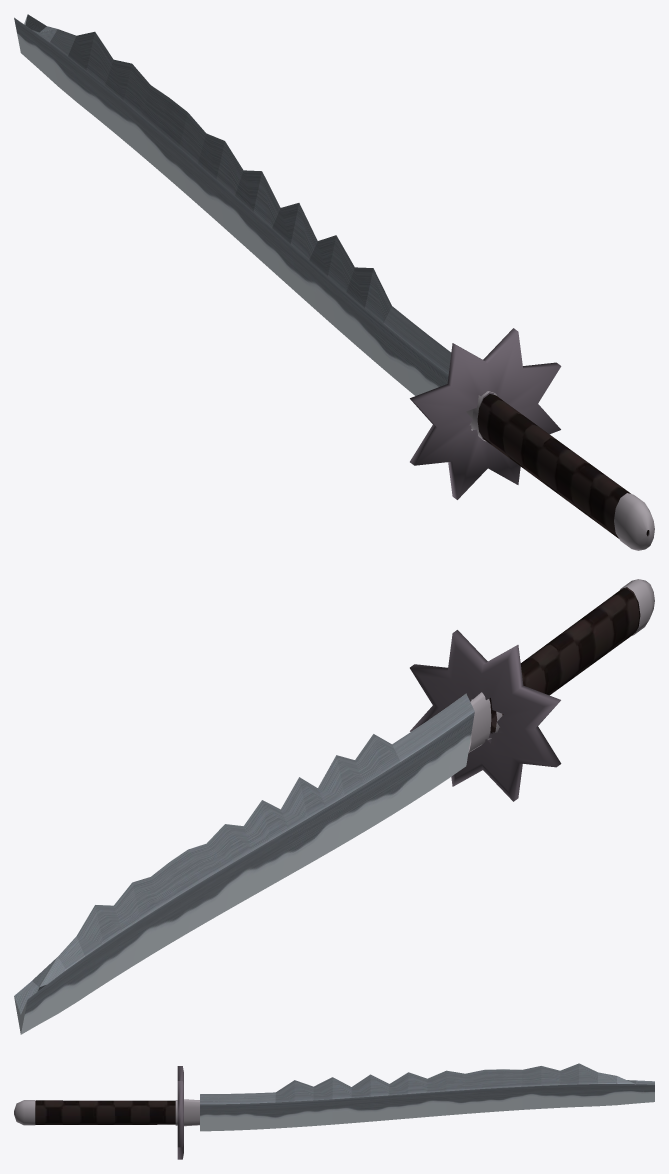
The model's file is serrated.glb.
3 renders of one model, top to bottom at view 1: azimuth 30°, elevation 25°; view 2: azimuth 150°, elevation 25°; view 3: azimuth 270°, elevation 25°, orthographic. The views are drawn at different scales.
Parts seen in each view (by area): view 1: main; view 2: main; view 3: main.
Boxes of the visible parts, x1=… form: main: x1=14, y1=14, x2=654, y2=550; main: x1=14, y1=579, x2=654, y2=1034; main: x1=14, y1=1063, x2=654, y2=1159.
Size of the model in its own units: 0.1372 by 0.1549 by 1.01.
Materials: 4 (3 with a texture image).
